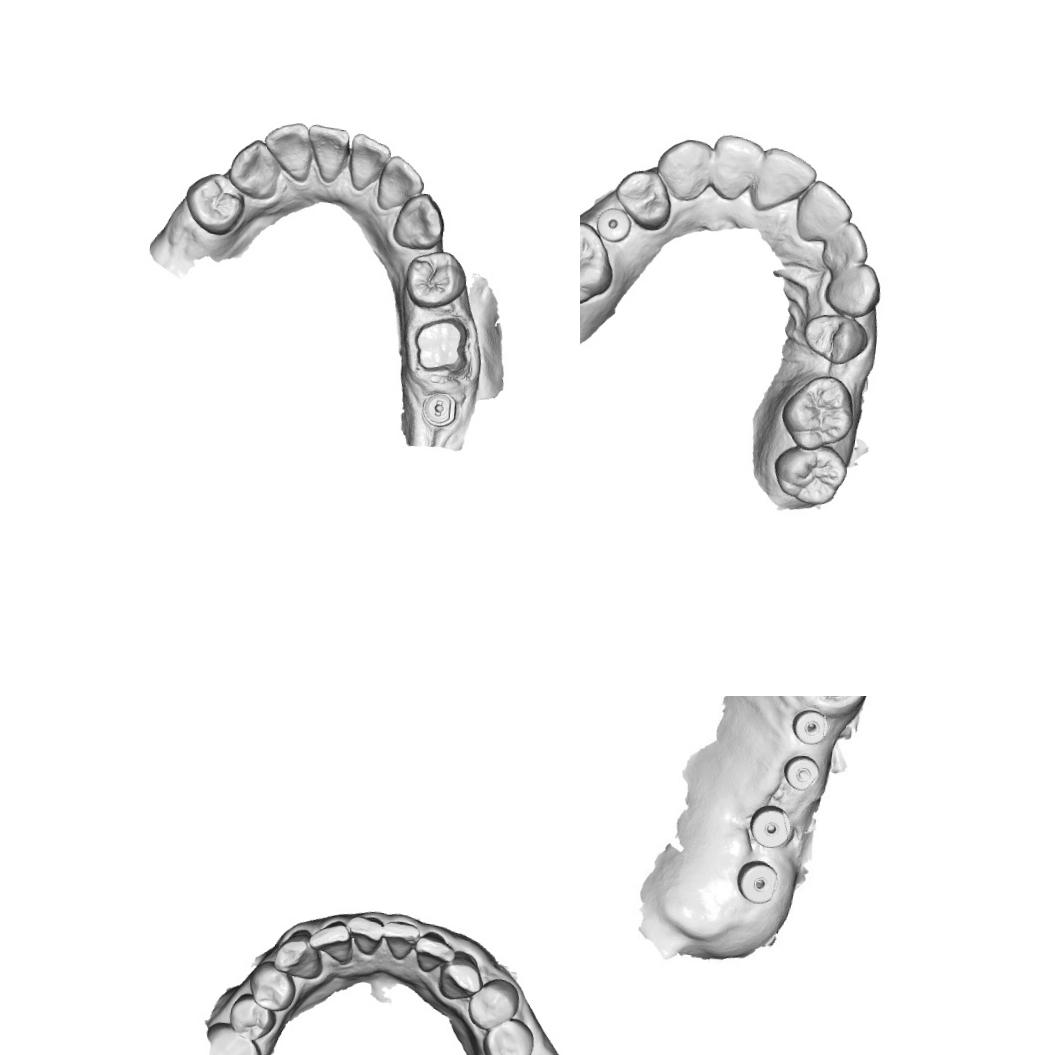canine: (654, 131, 716, 206), (820, 258, 886, 322), (224, 136, 284, 202), (389, 189, 449, 253), (270, 926, 326, 982), (436, 949, 487, 1004)
crown: (410, 314, 472, 376)
implant: (730, 855, 785, 908), (746, 804, 794, 850), (782, 750, 824, 794), (790, 707, 832, 750), (592, 204, 634, 246)
implant_minus: (420, 390, 458, 430)
incisor: (750, 144, 821, 218), (702, 132, 768, 207), (790, 176, 856, 247), (260, 117, 312, 184), (818, 218, 874, 277), (374, 152, 427, 214), (302, 122, 352, 184), (346, 131, 392, 195), (306, 918, 356, 966), (411, 928, 457, 977), (378, 918, 421, 964), (344, 914, 386, 958)
molar: (776, 368, 864, 455), (768, 439, 850, 512), (580, 213, 617, 311)
premolar: (182, 169, 248, 238), (798, 310, 872, 370), (401, 248, 470, 312), (610, 165, 674, 234), (465, 974, 522, 1034), (245, 958, 299, 1014), (224, 990, 280, 1043), (479, 1014, 536, 1055)
